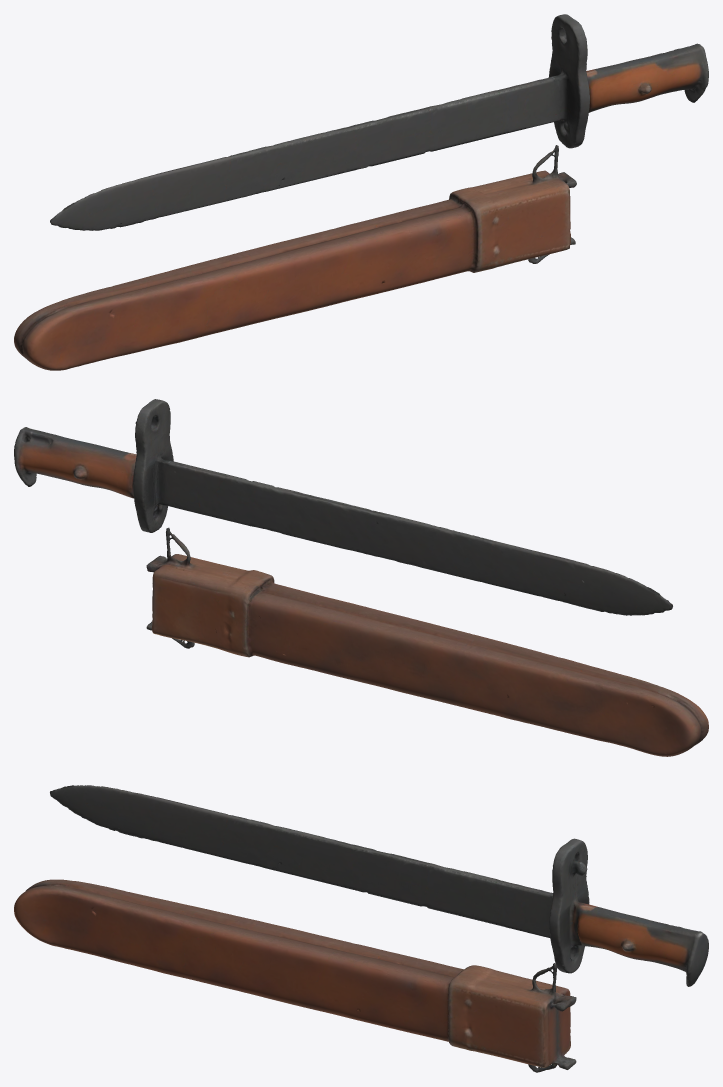
File: Bayonet.glb
3 views of the same model, one above another, from view 1: azimuth 30°, elevation 25°; view 2: azimuth 150°, elevation 25°; view 3: azimuth 330°, elevation 25° (orthographic).
Size of the model in its own units: 2 by 0.6614 by 0.1629.
Materials: 1 (1 with a texture image).
